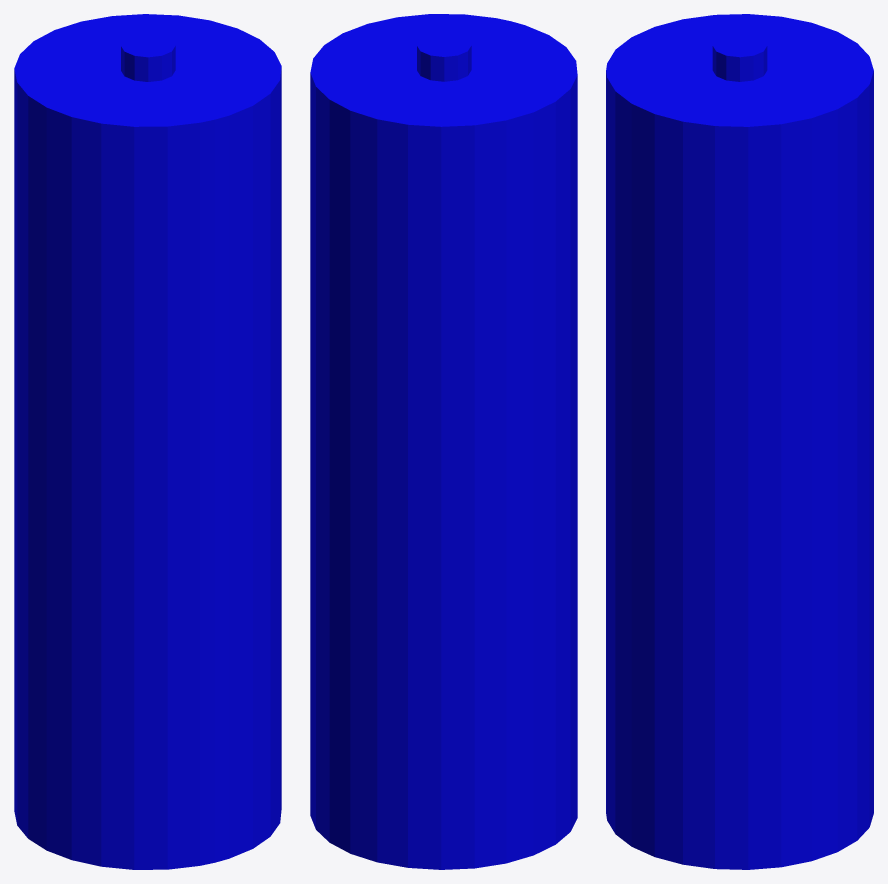
Rendered from Battery.dae.
3 views of the same model, side by side, from view 1: azimuth 30°, elevation 25°; view 2: azimuth 150°, elevation 25°; view 3: azimuth 270°, elevation 25° (orthographic).
Parts seen in each view (by area): view 1: node; view 2: node; view 3: node.
Boxes of the visible parts, left/top/right/bottom form: node: left=14, top=14, right=281, bottom=869; node: left=310, top=14, right=577, bottom=869; node: left=606, top=14, right=873, bottom=869.
Size of the model in its own units: 0.0196 by 0.0196 by 0.062.
